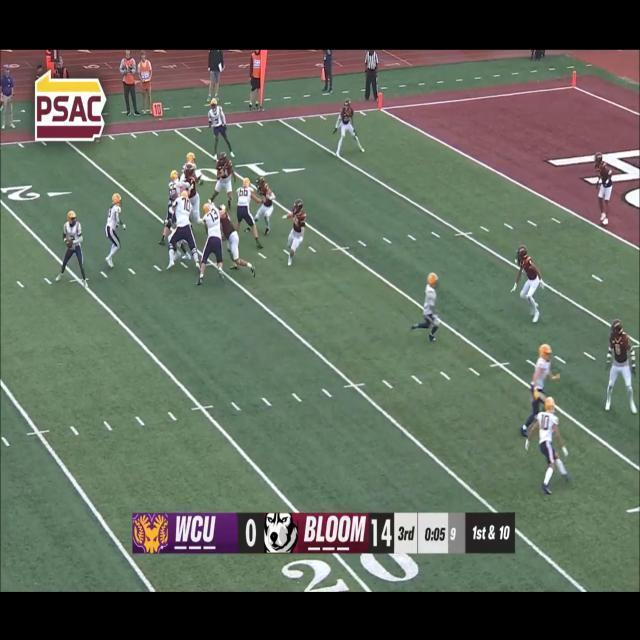football: (64, 236, 74, 248)
